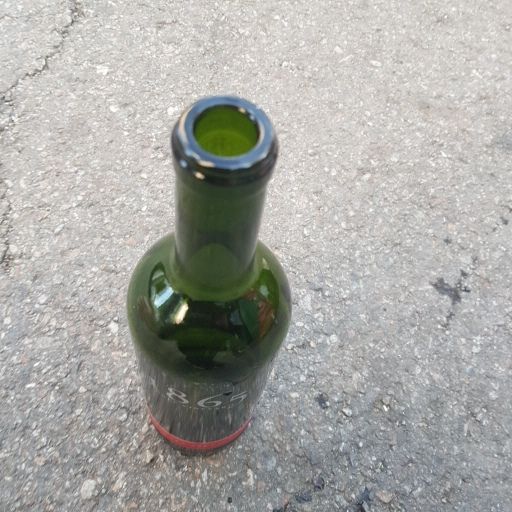Glass_2: (125, 93, 297, 461)
